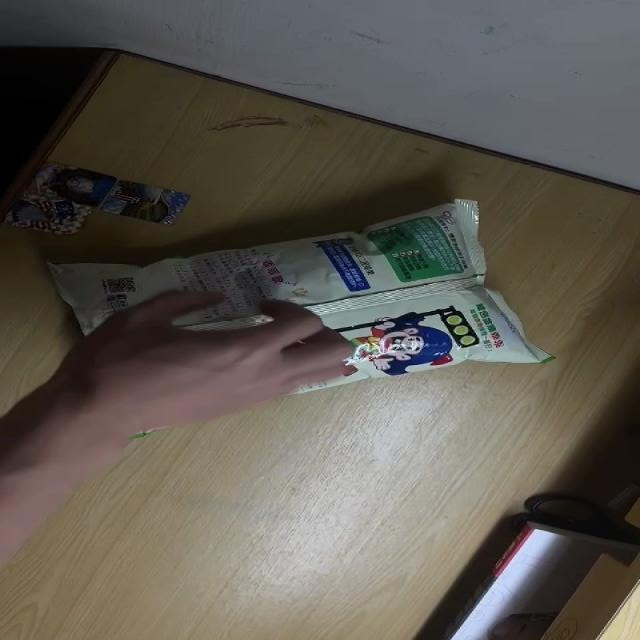Good-Luck: (48, 200, 548, 408)
